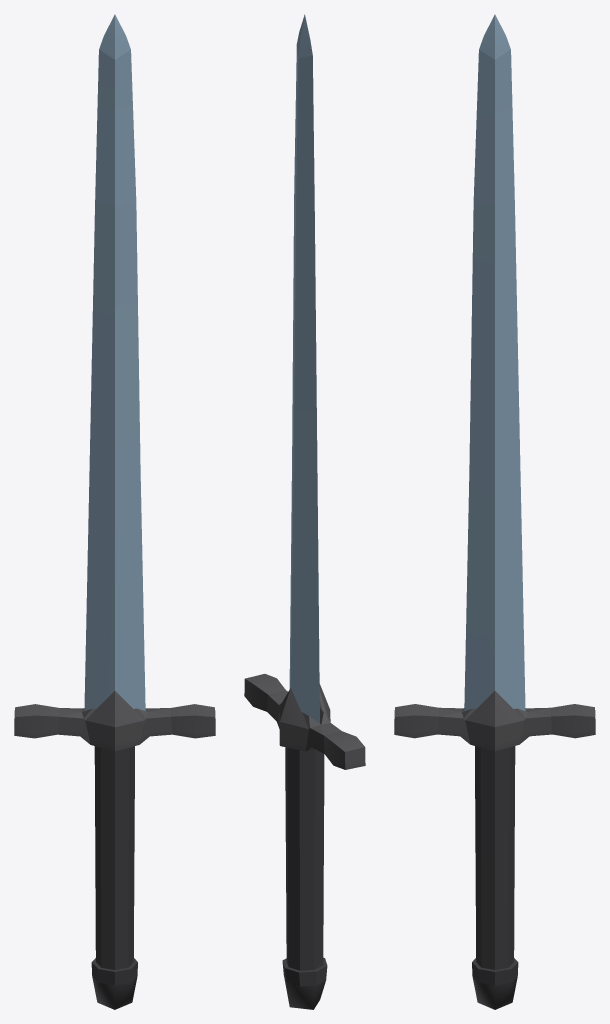
File: Md_Prop_StraightSword_02.fbx
3 views of the same model, side by side, from view 1: azimuth 90°, elevation 25°; view 2: azimuth 210°, elevation 25°; view 3: azimuth 270°, elevation 25° (orthographic).
Visible parts, largest first — view 1: Md_Prop_StraightSword_02; view 2: Md_Prop_StraightSword_02; view 3: Md_Prop_StraightSword_02.
Part boxes in pixels (<box>): Md_Prop_StraightSword_02: <box>14,14,215,1009</box>; Md_Prop_StraightSword_02: <box>244,14,365,1009</box>; Md_Prop_StraightSword_02: <box>394,14,595,1009</box>.
Size of the model in its own units: 6.11 by 115 by 21.21.
1 material, 1 textured.
